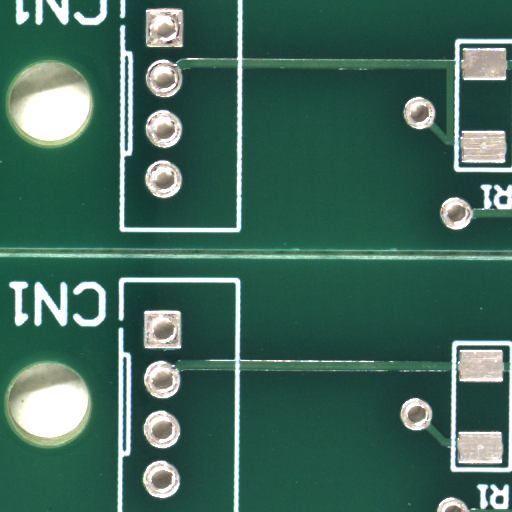Short: (449, 102, 462, 178)
